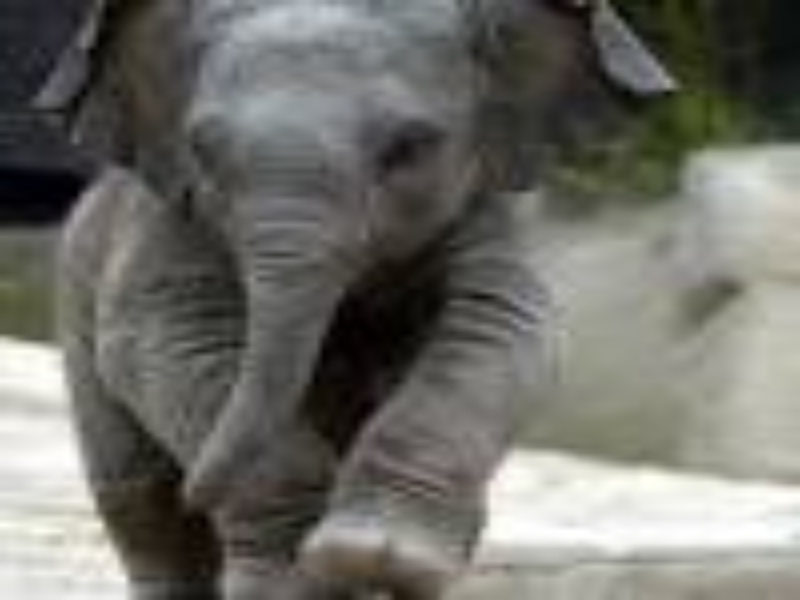elephant: (15, 1, 588, 600)
